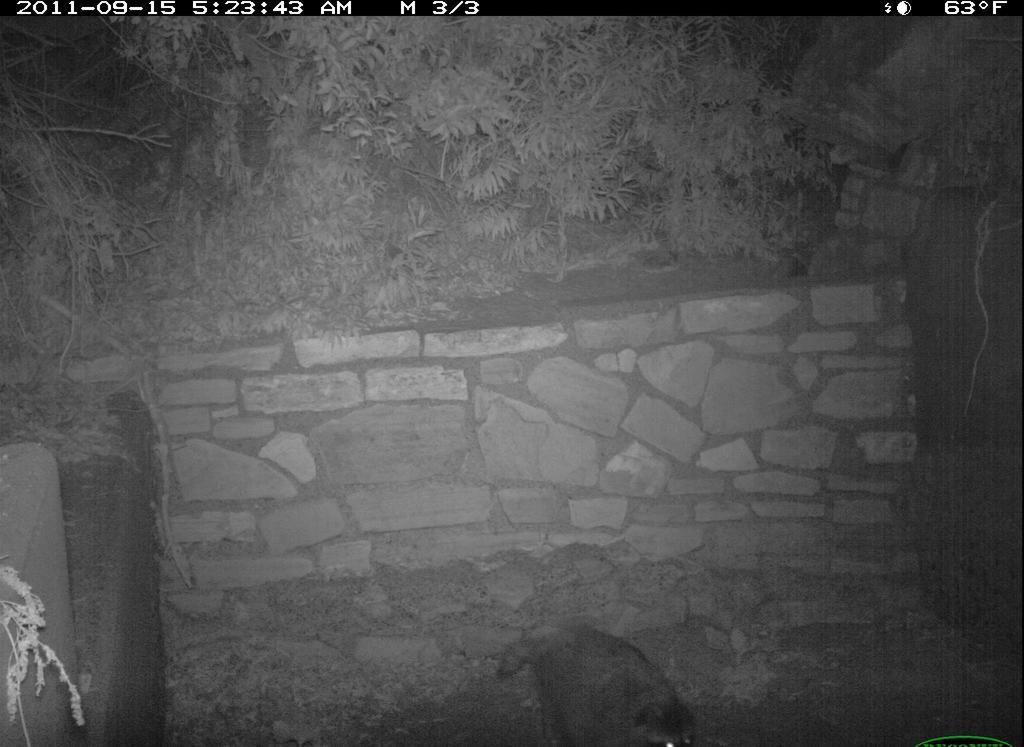raccoon: (491, 617, 708, 747)
